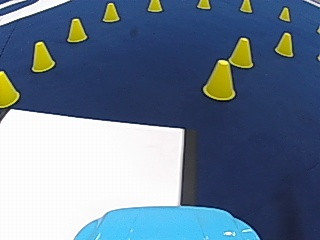cone: (202, 58, 236, 100), (228, 36, 254, 68), (30, 40, 54, 72), (0, 70, 20, 106), (66, 17, 87, 42), (274, 31, 294, 56), (102, 2, 119, 22), (147, 0, 162, 12), (278, 6, 290, 21), (239, 0, 252, 12), (197, 0, 210, 9)
